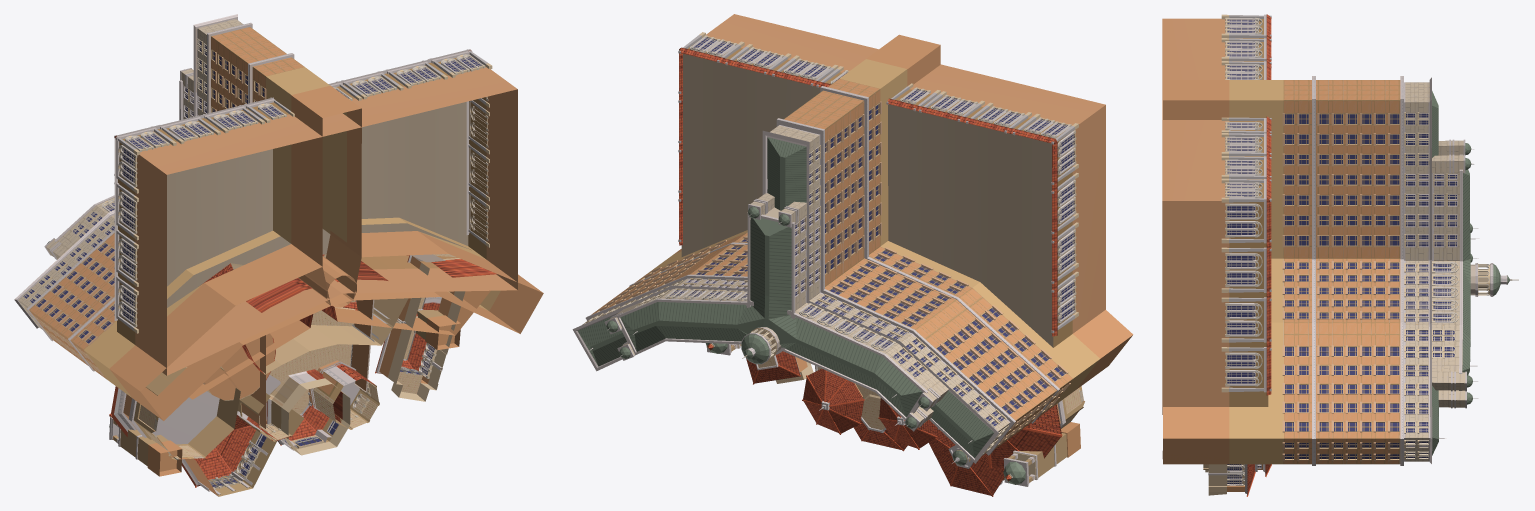
Rendered from UUDRPCom (2).fbx.
3 views of the same model, side by side, from view 1: azimuth 30°, elevation 25°; view 2: azimuth 150°, elevation 25°; view 3: azimuth 270°, elevation 25° (orthographic). The views are drawn at different scales.
Parts seen in each view (by area): view 1: Cube.019; view 2: Cube.019; view 3: Cube.019.
Part boxes in pixels (x1=…): Cube.019: x1=14, y1=14, x2=543, y2=496; Cube.019: x1=572, y1=14, x2=1133, y2=496; Cube.019: x1=1162, y1=14, x2=1518, y2=496.
Bounding box in the file's own units: 156 × 139 × 112.
